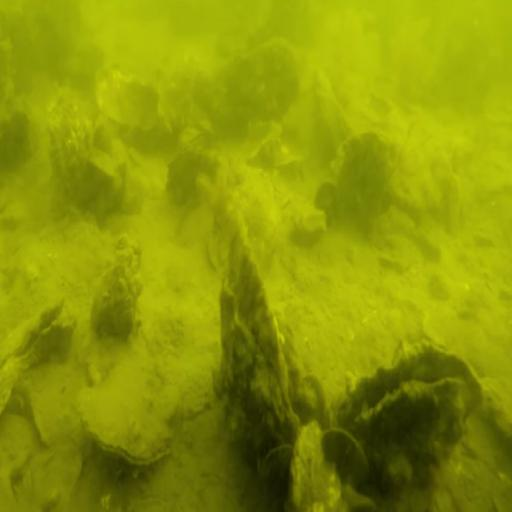Oyster-Closed: (220, 223, 293, 446), (81, 372, 177, 464), (209, 166, 276, 272), (282, 417, 353, 512), (21, 363, 90, 455), (237, 40, 304, 110), (48, 93, 91, 191), (340, 128, 395, 203)
Oyster-Open: (340, 350, 486, 474), (1, 299, 83, 417)
